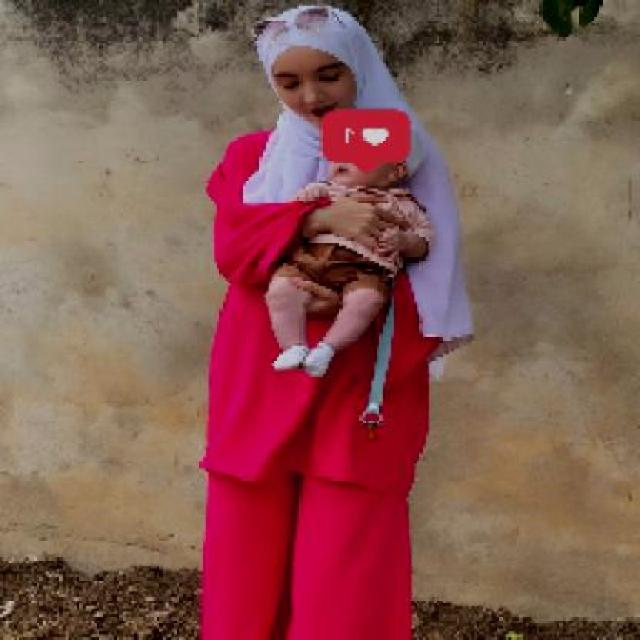child: (264, 123, 436, 377)
